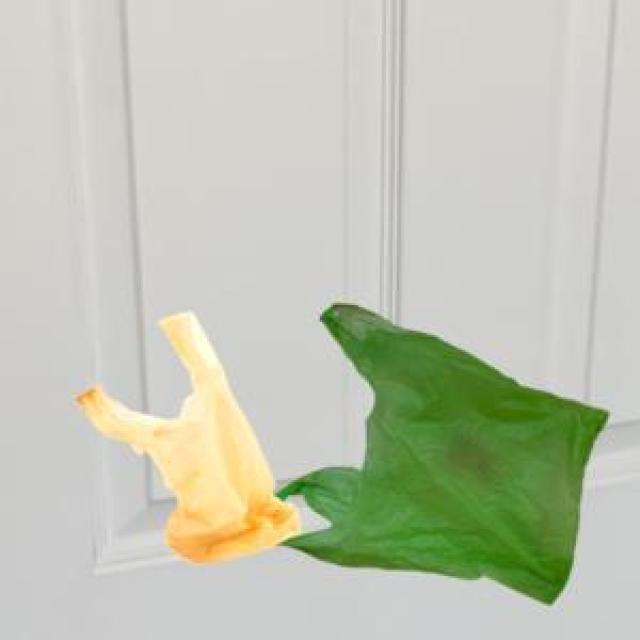waste: (76, 304, 609, 603)
